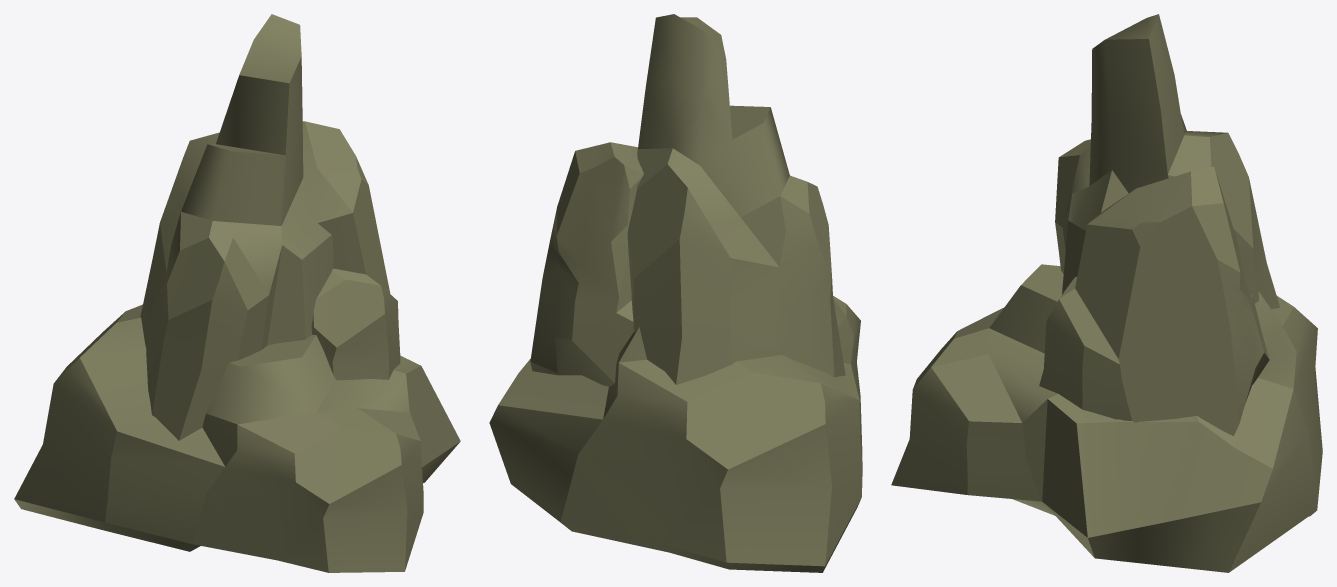
Rendered from Rock_5.fbx.
3 views of the same model, side by side, from view 1: azimuth 30°, elevation 25°; view 2: azimuth 150°, elevation 25°; view 3: azimuth 270°, elevation 25° (orthographic). The views are drawn at different scales.
Visible parts, largest first — view 1: Rock_5; view 2: Rock_5; view 3: Rock_5.
Boxes of the visible parts, box(x1,y1,x2,y2) form: Rock_5: box(14, 14, 460, 572); Rock_5: box(489, 14, 862, 572); Rock_5: box(891, 14, 1322, 572).
Size of the model in its own units: 0.2786 by 0.3658 by 0.2844.
